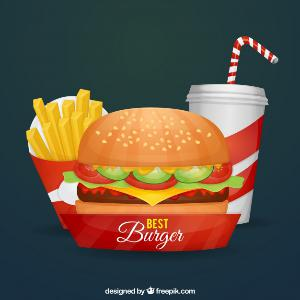cheeseburger: (76, 86, 248, 260)
fries: (24, 81, 110, 163)
